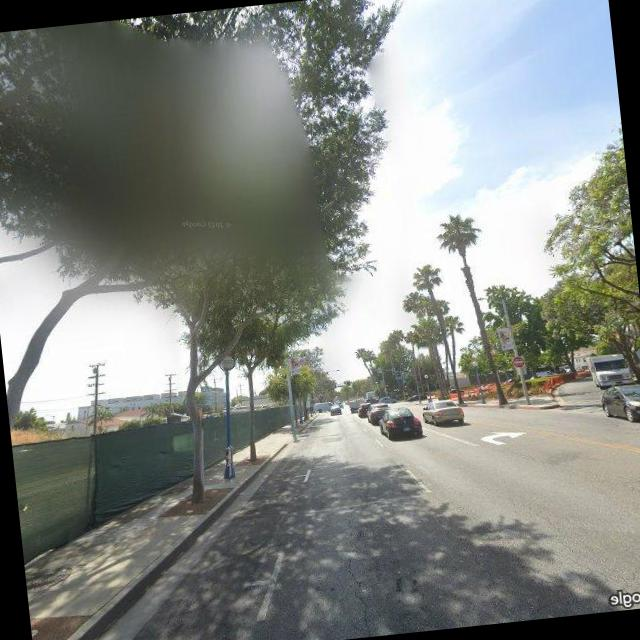pothole: (338, 514, 382, 636)
